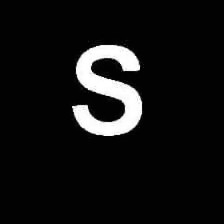LTR_S: (63, 35, 147, 139)
